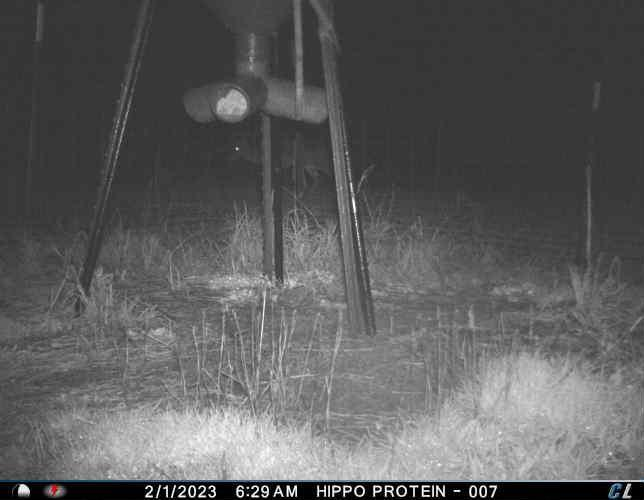Deer: (228, 129, 348, 208)
